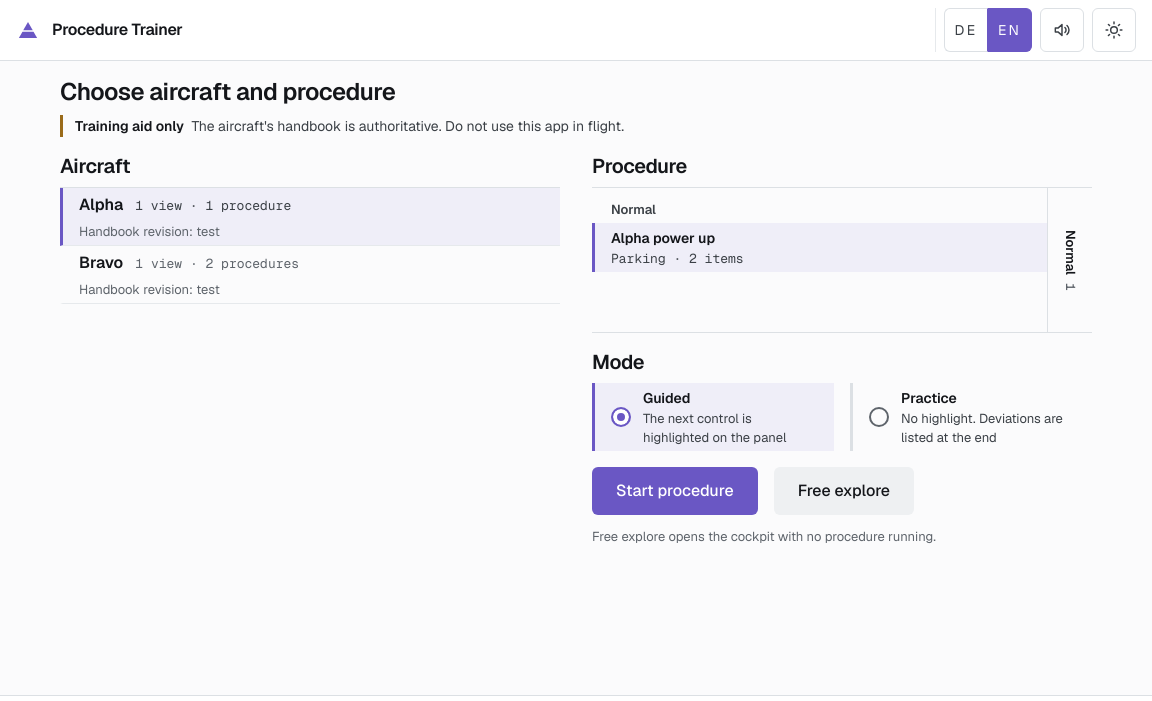
Test: run history in the picker › follows the chosen aircraft
The width and height of the screenshot is (1152, 701).
What coordinates should you click on to do the following:
click the button "Bravo 1 view · 2 procedures Handbook revision: test"
I would click on:
 (101, 262)
Its box is [60,246,560,304].
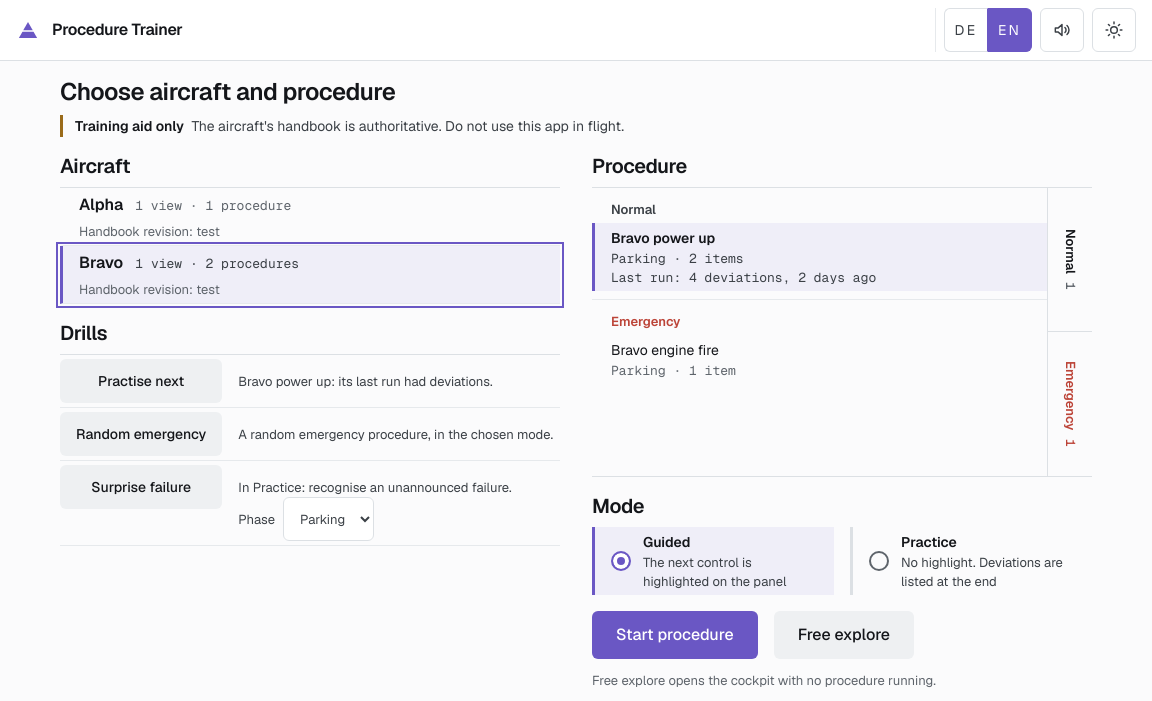
Expected: the text "Last run: 4 deviations, 2 days ago" is shown, [611,268,876,287]
